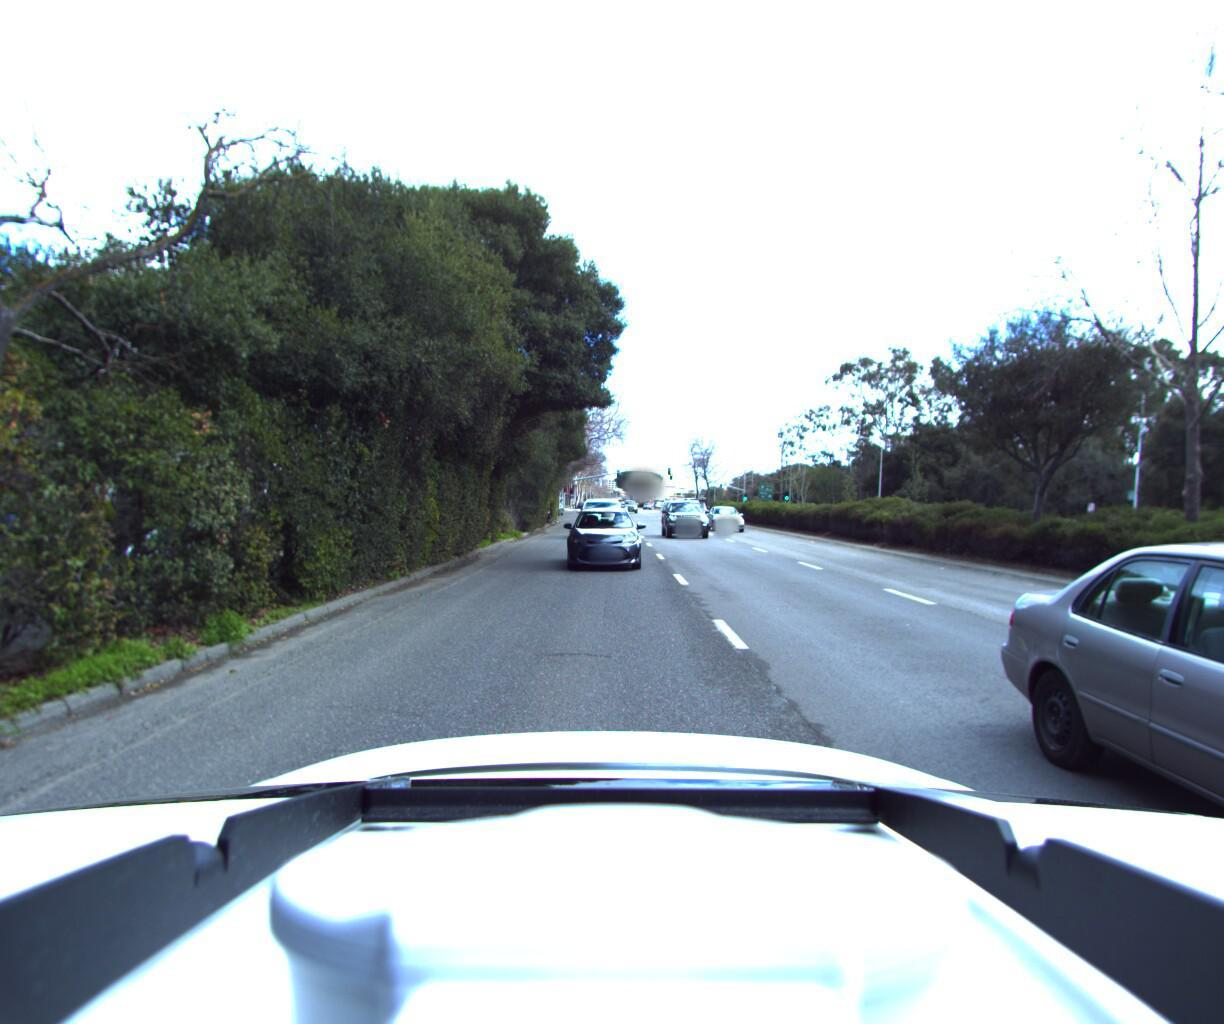car: (1061, 519, 1224, 1024), (562, 507, 645, 577), (661, 501, 716, 544), (577, 501, 625, 544), (709, 509, 755, 539), (674, 497, 712, 527)
